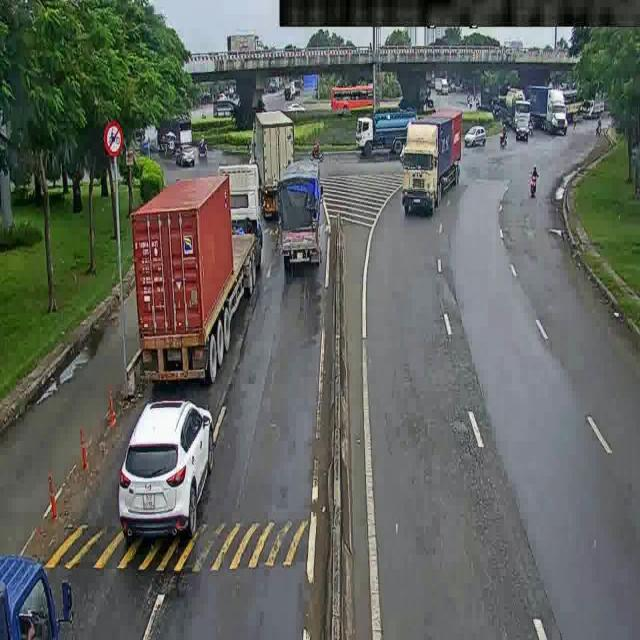bus: (326, 82, 383, 106)
car: (111, 398, 207, 554), (396, 118, 457, 217), (457, 127, 495, 150), (168, 141, 203, 164)
motorbike: (520, 167, 548, 212), (303, 140, 325, 160), (197, 136, 215, 154)
truck: (124, 154, 268, 376), (276, 151, 333, 279), (239, 114, 298, 218), (340, 104, 418, 153), (527, 82, 571, 142), (492, 91, 535, 141)
